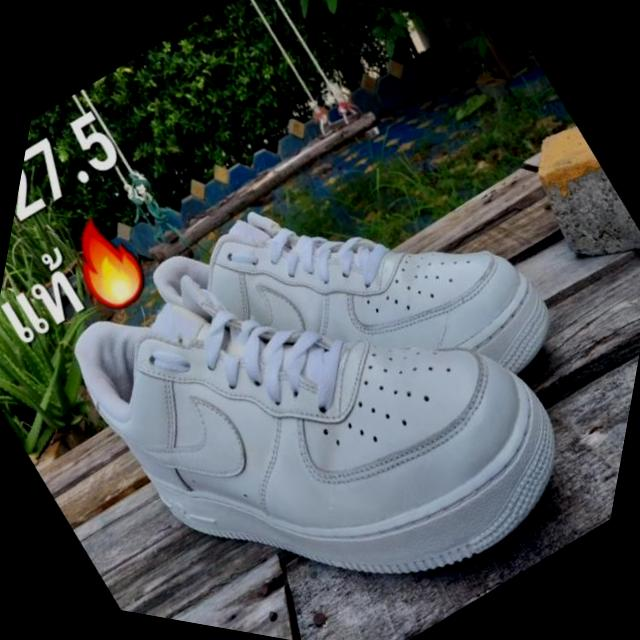nike_original_airforce: (18, 95, 640, 640), (108, 52, 613, 553)
